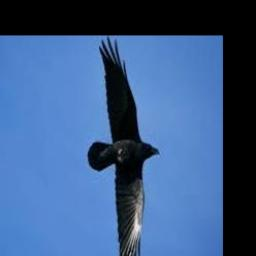Crow: (87, 35, 160, 256)
